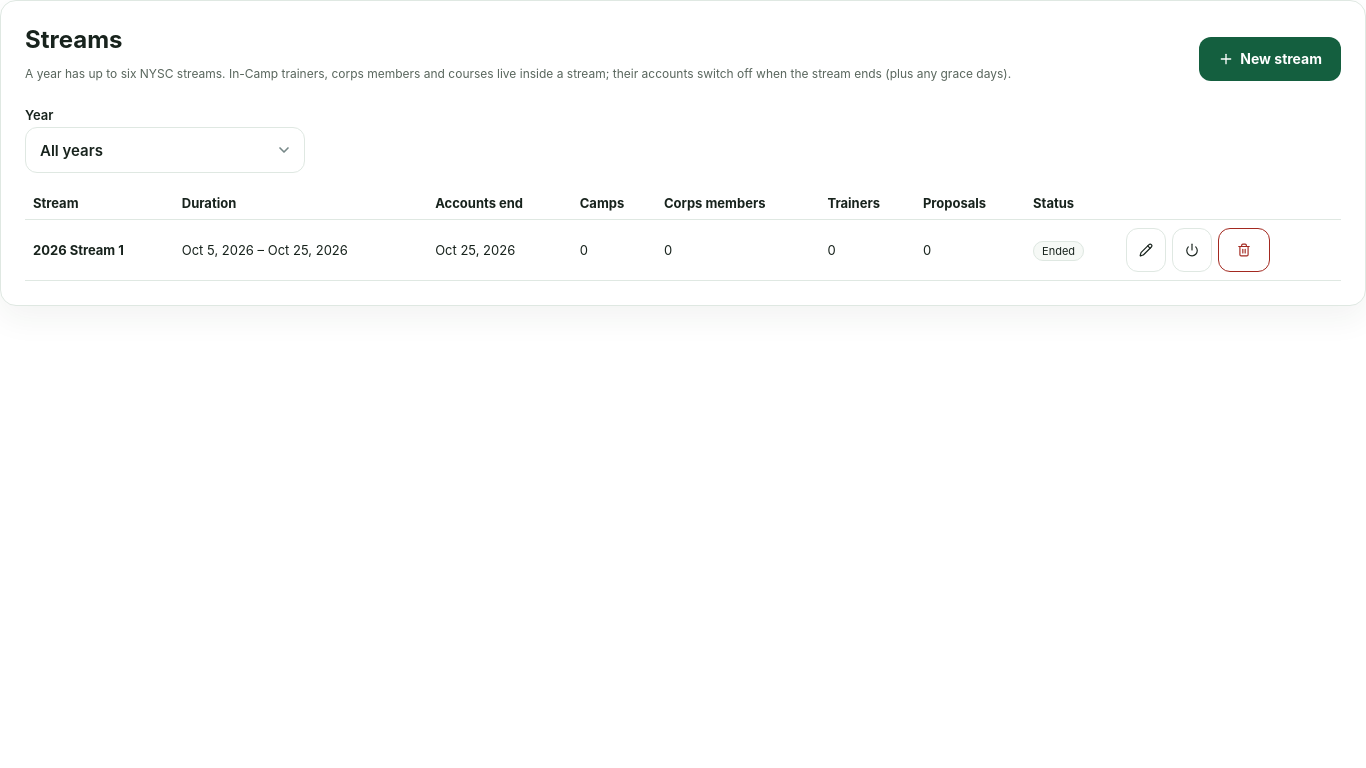
admin creates a stream (1–6 per year) and sees server validation
Expected: the text "2026 Stream 1" is shown, [33,242,124,258]
Click the button "New stream" at [1270, 59], box [1199,37,1341,81]
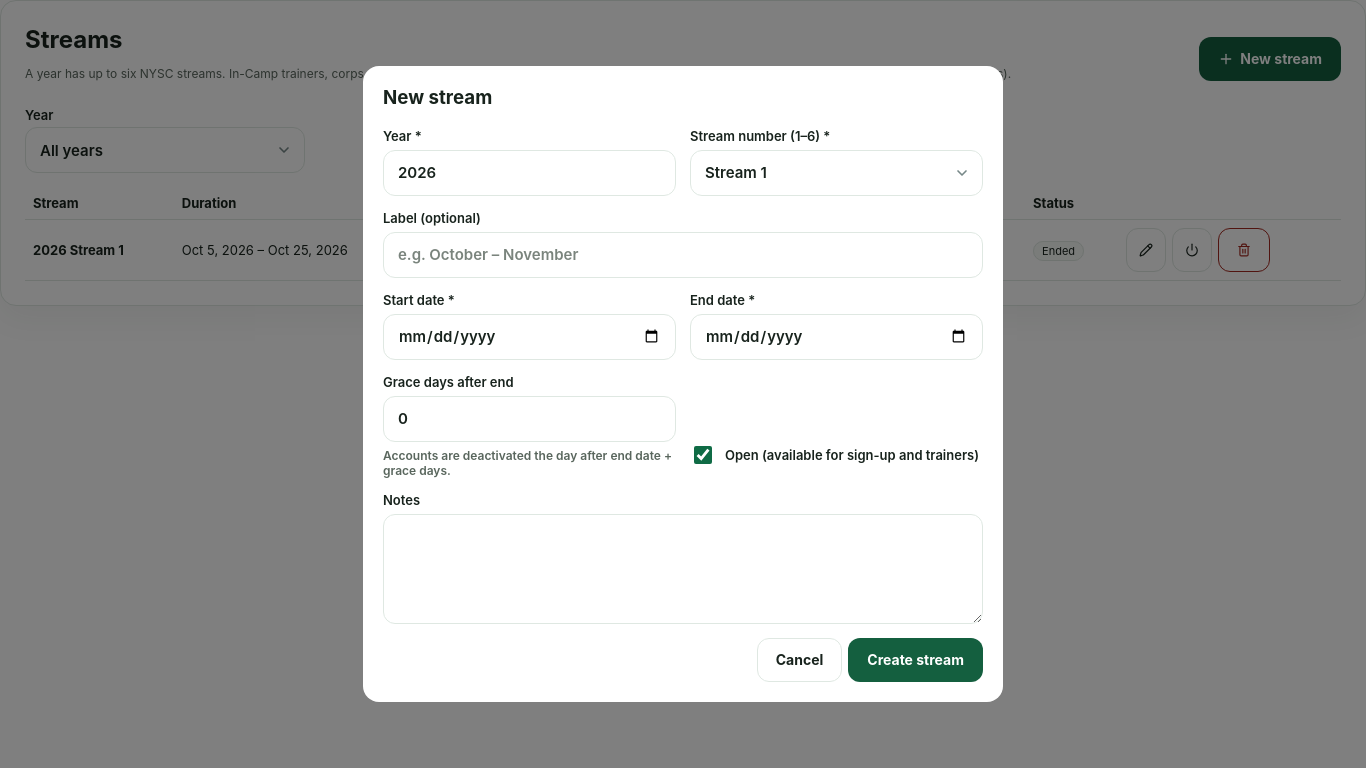
Type "2026-11-02" into the date field labelled "Start date *" at [530, 337], box [383,314,676,360]
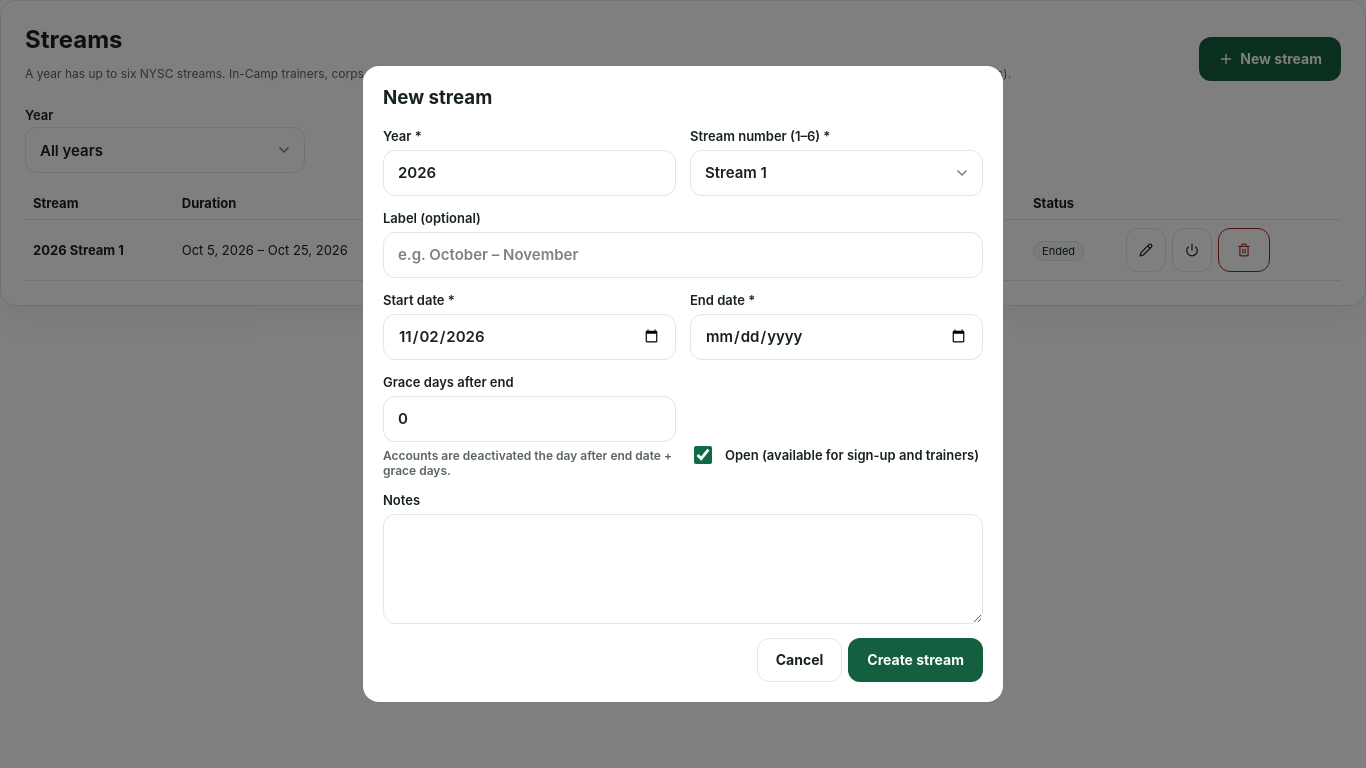
Type "2026-11-22" into the date field labelled "End date *" at [836, 337], box [690,314,983,360]
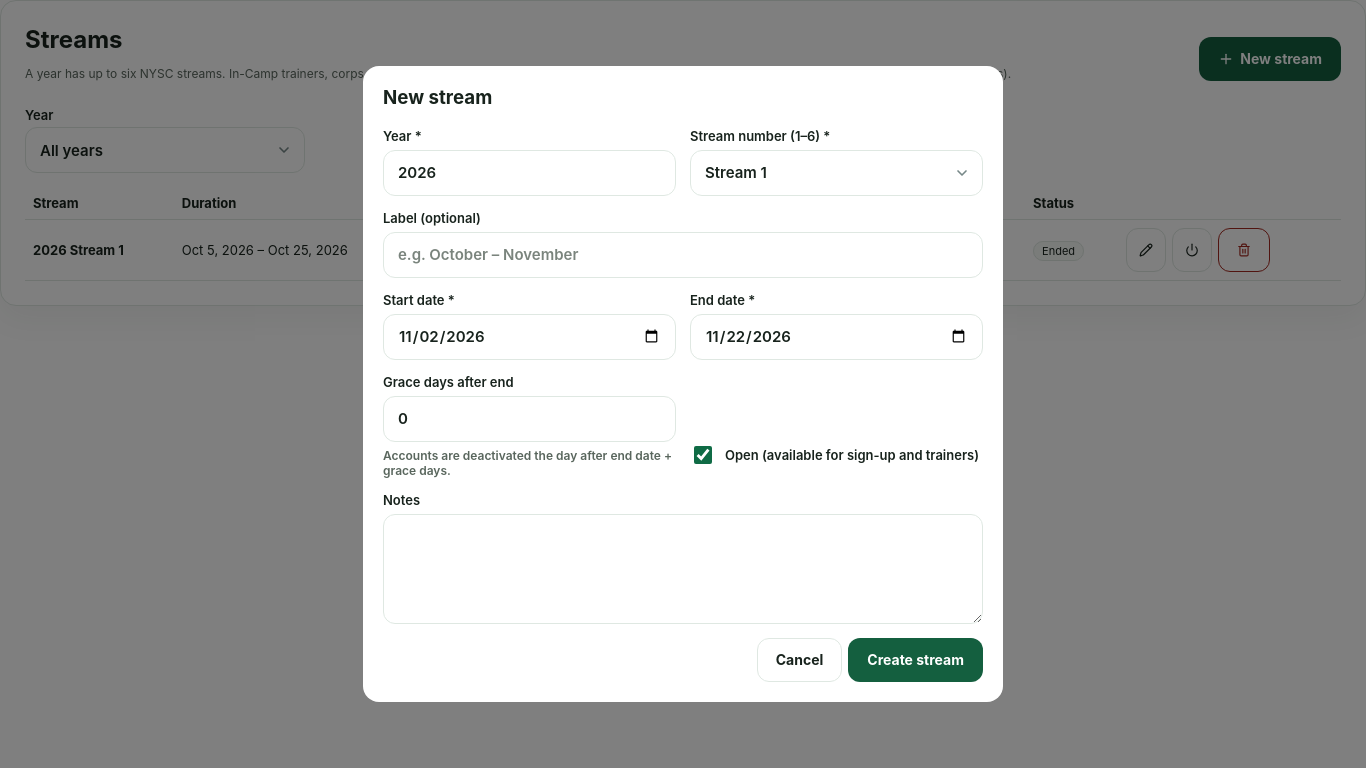
Submit the form, box [383,128,983,682]
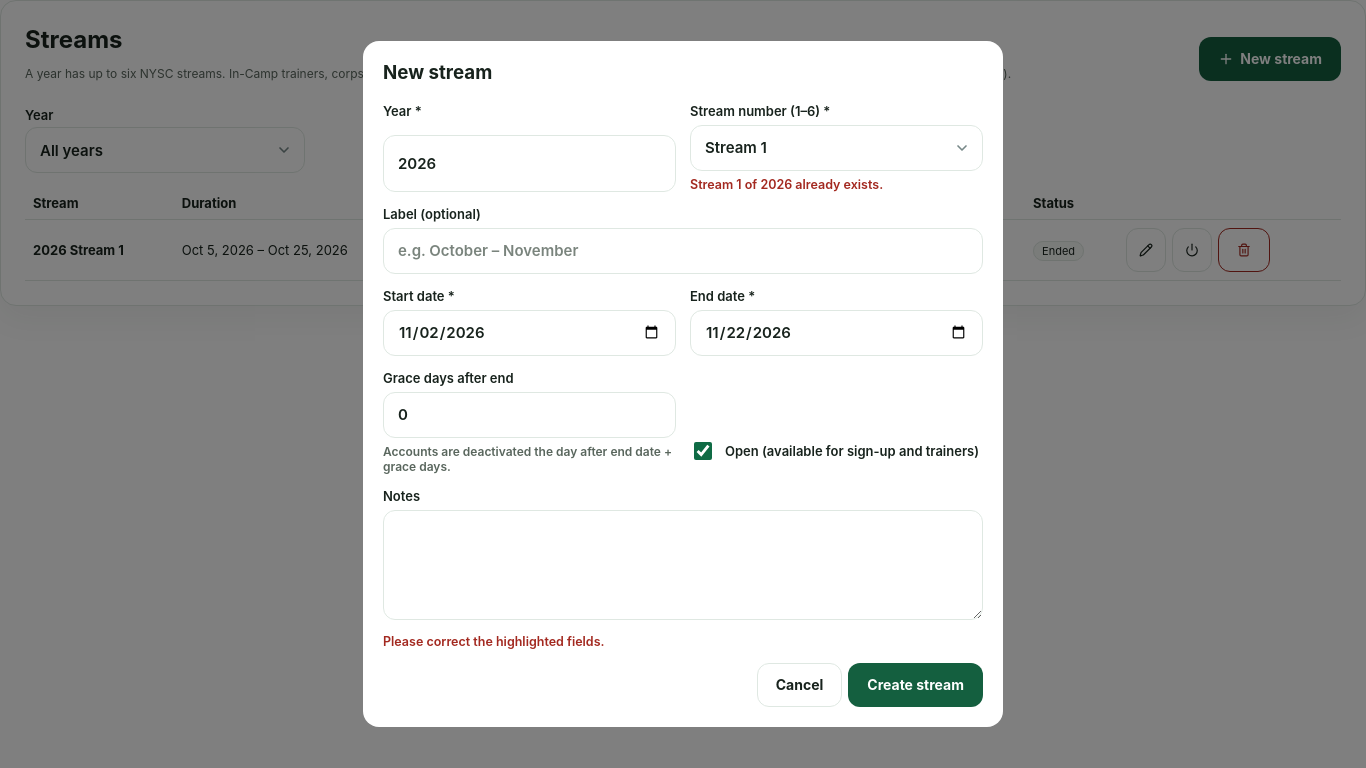
Expected: the text "Stream 1 of 2026 already exists." is shown, [690,177,883,192]
